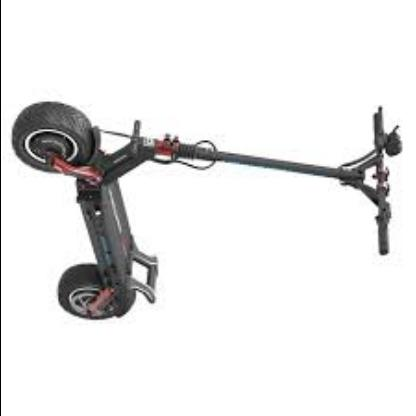bike: (12, 99, 409, 323)
